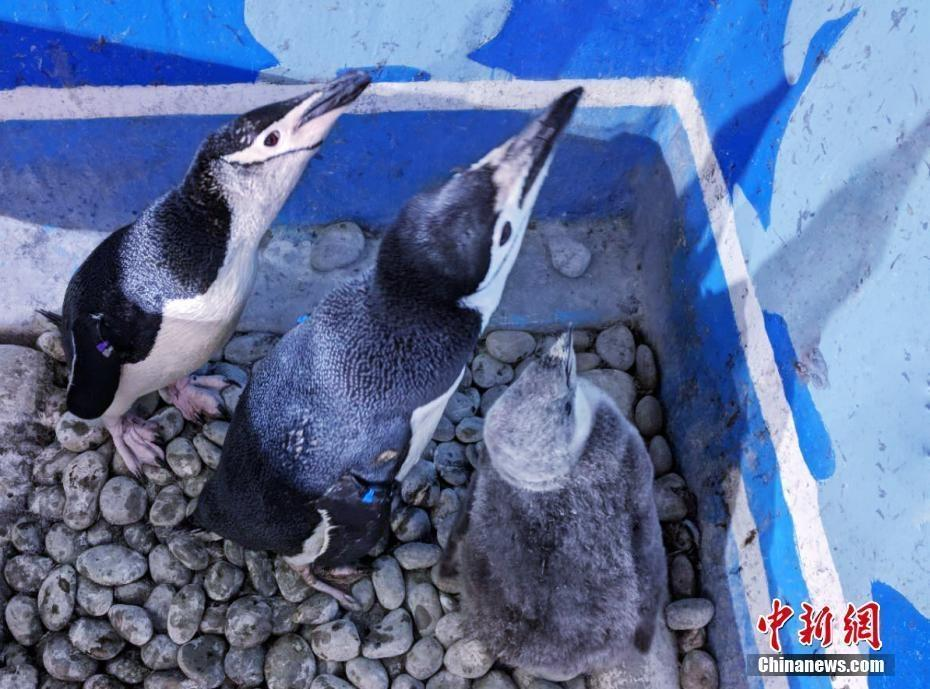Penguin: (196, 89, 581, 603), (45, 73, 368, 474), (440, 332, 679, 688)
